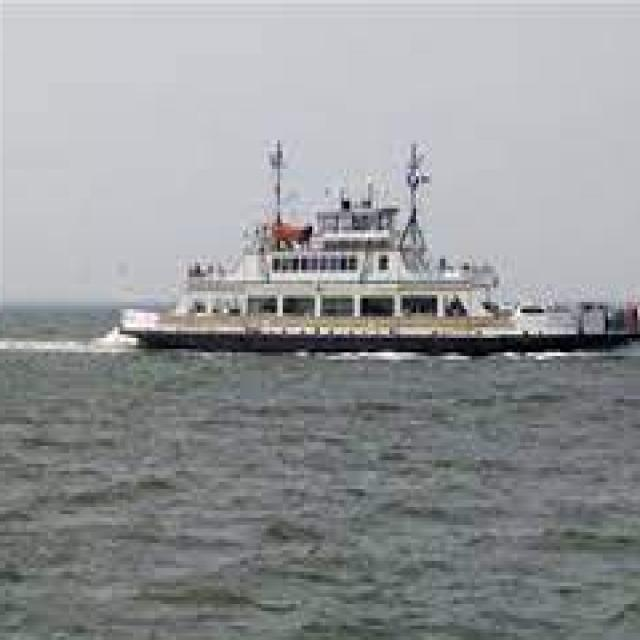fishing boat: (117, 165, 640, 356)
